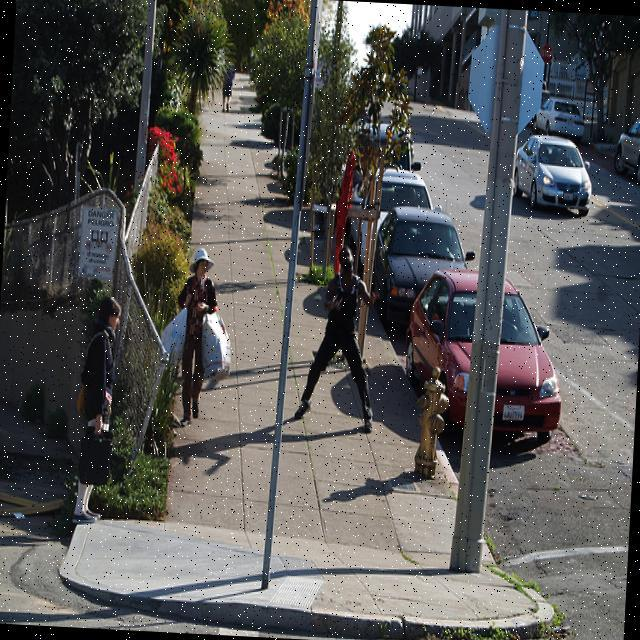fire_hydrant: (412, 367, 452, 481)
